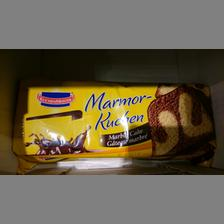Kuchen: (10, 76, 218, 170)
